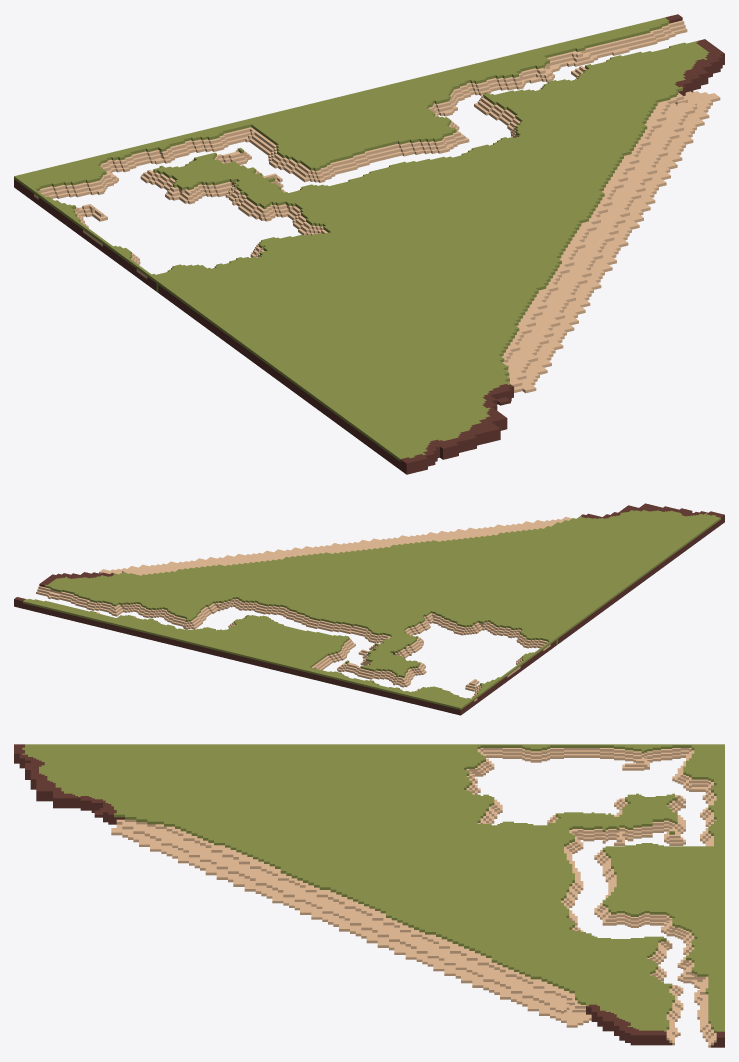
Rendered from G Map (bottom right).obj.
3 renders of one model, top to bottom at view 1: azimuth 30°, elevation 25°; view 2: azimuth 150°, elevation 25°; view 3: azimuth 270°, elevation 25°, orthographic. The views are drawn at different scales.
Size of the model in its own units: 25 by 0.4 by 25.6.
Materials: 1 (1 with a texture image).
